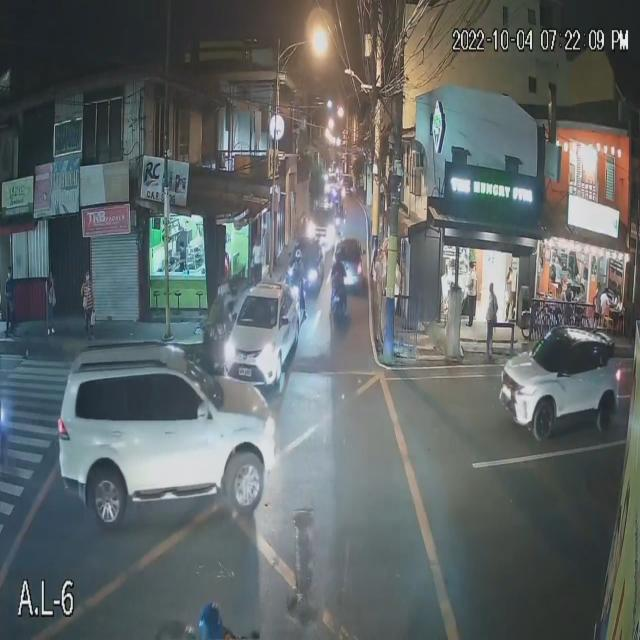Full-Faced: (195, 601, 225, 640), (331, 250, 344, 269), (294, 249, 305, 266)
